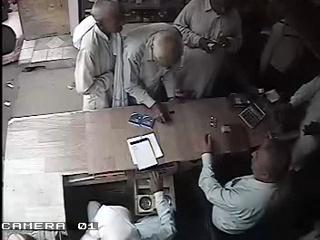Normal: (198, 133, 294, 240), (172, 0, 244, 100), (114, 22, 184, 123), (80, 170, 178, 240)
shoplifting: (72, 0, 126, 111)
